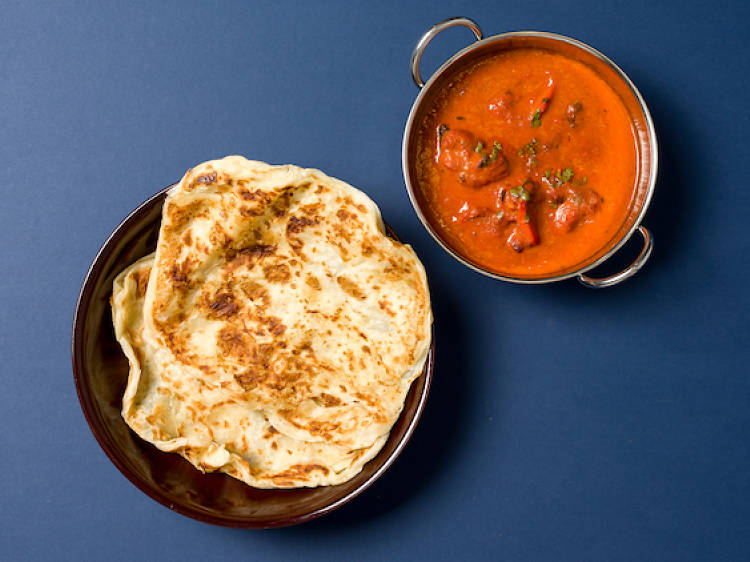Prata: (139, 142, 438, 500)
